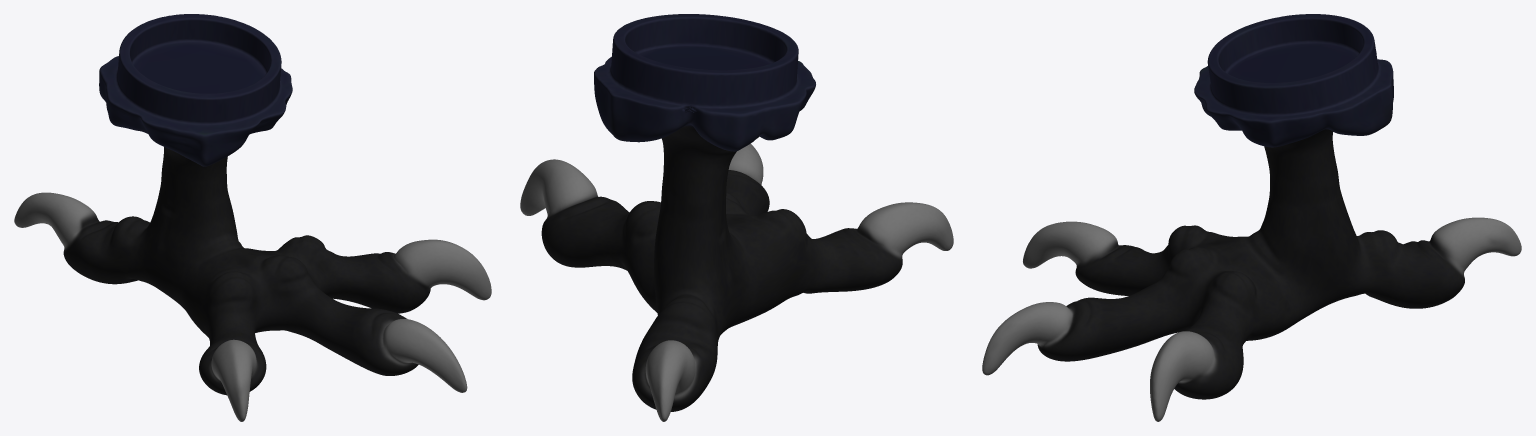
Rendered from Patte_Corbeau_lft.glb.
3 renders of one model, left to right at view 1: azimuth 30°, elevation 25°; view 2: azimuth 150°, elevation 25°; view 3: azimuth 270°, elevation 25°, orthographic. The views are drawn at different scales.
Visible parts, largest first — view 1: Patte_Corbeau_lft; view 2: Patte_Corbeau_lft; view 3: Patte_Corbeau_lft.
Part boxes in pixels (left/top/right/bottom): Patte_Corbeau_lft: left=14, top=14, right=491, bottom=421; Patte_Corbeau_lft: left=520, top=14, right=953, bottom=421; Patte_Corbeau_lft: left=982, top=14, right=1521, bottom=421.
Size of the model in its own units: 2.78 by 2.28 by 3.97.
